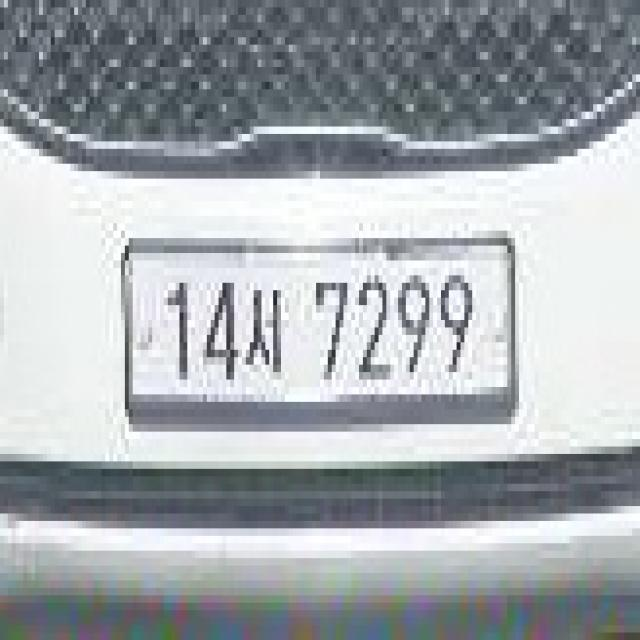1: (160, 268, 199, 394)
2: (355, 260, 398, 394)
4: (203, 268, 246, 394)
7: (308, 260, 355, 394)
9: (437, 253, 480, 387), (398, 260, 437, 394)
license_plate: (113, 223, 531, 439)
seo: (242, 275, 289, 387)
